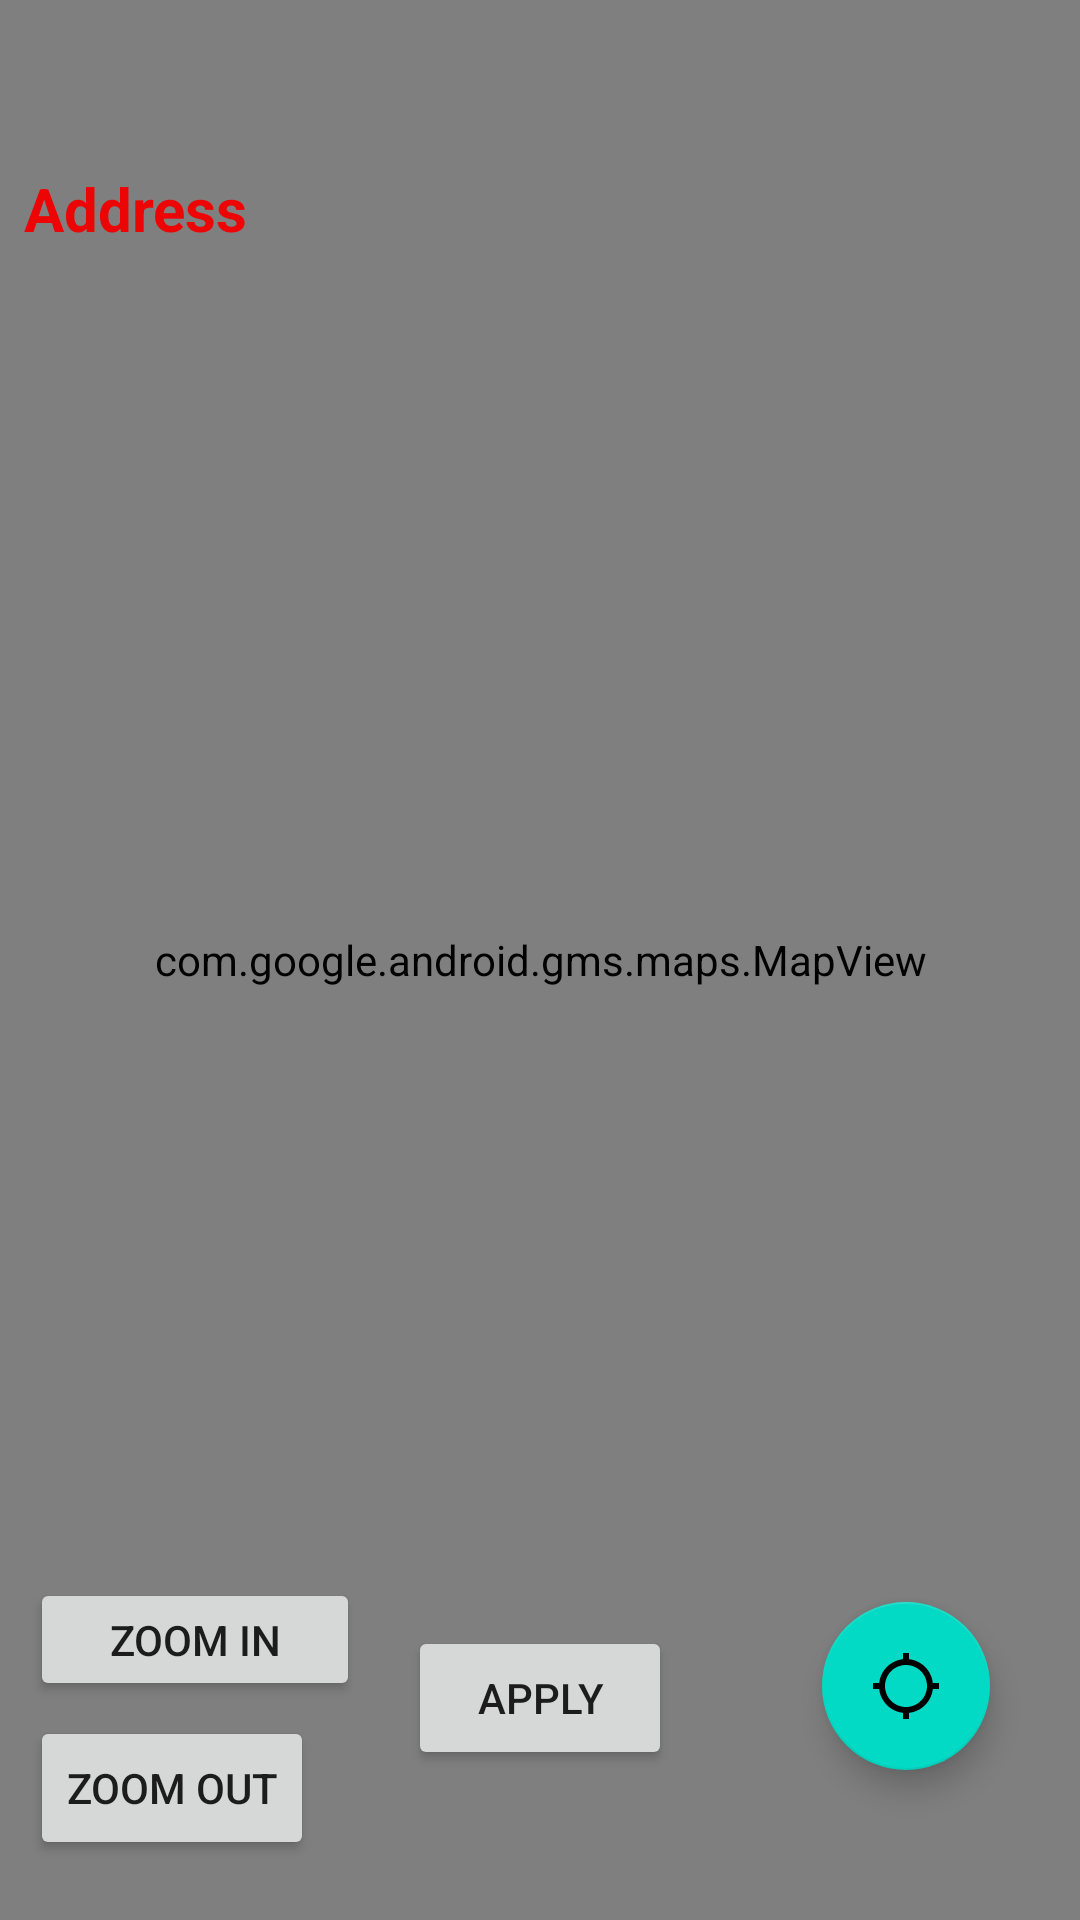

Icons on this 1080 × 1920 Android screen, each with its box as {"left": x1, "top": y1, "right": x2, "bottom": y2}:
location searching: {"left": 822, "top": 1602, "right": 990, "bottom": 1770}
